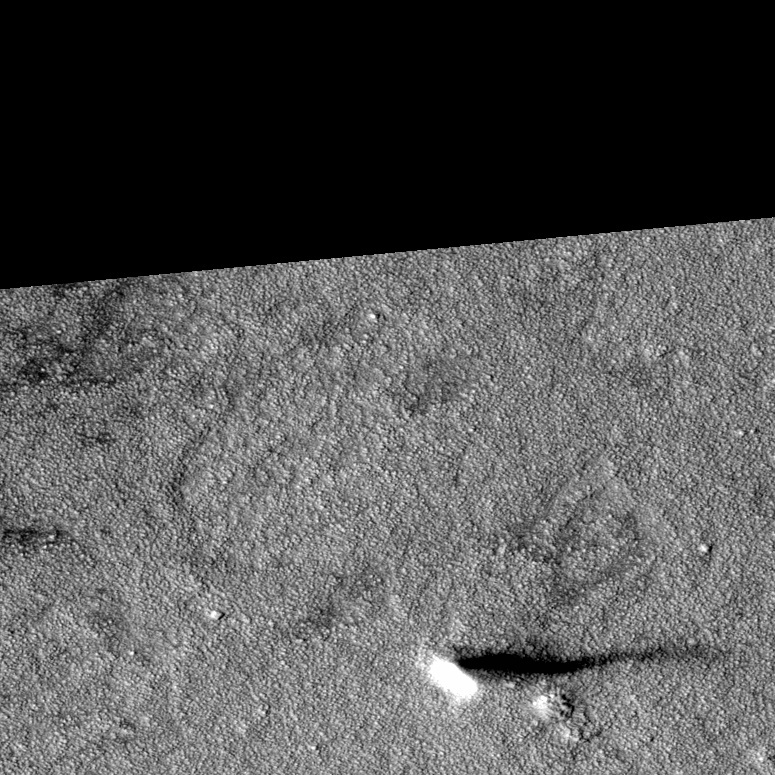dust_devil: (424, 638, 724, 703)
